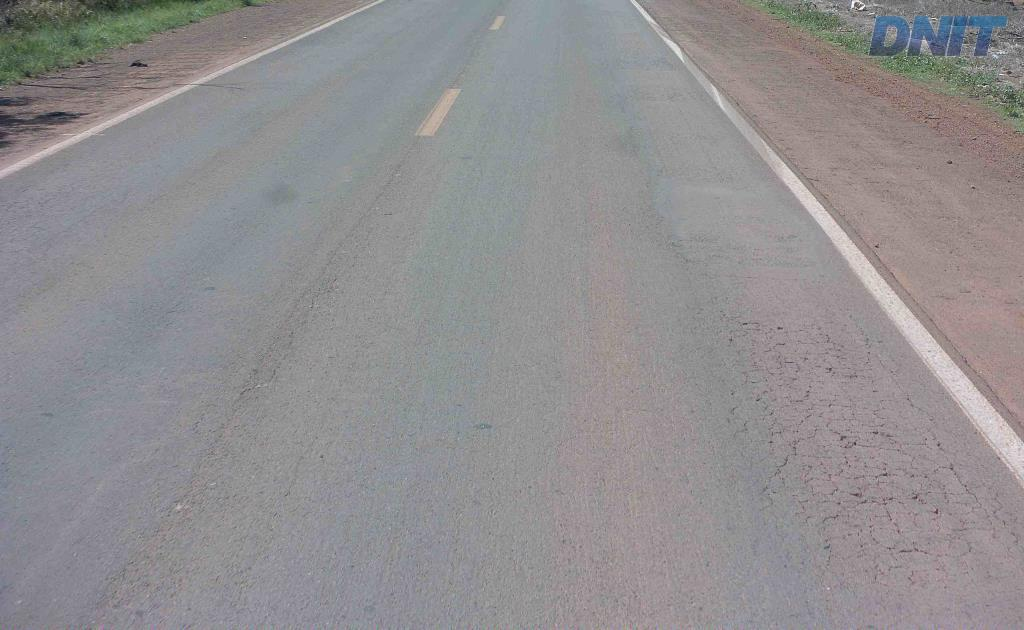crack: (751, 425, 822, 507), (821, 493, 904, 526), (719, 310, 760, 347)
